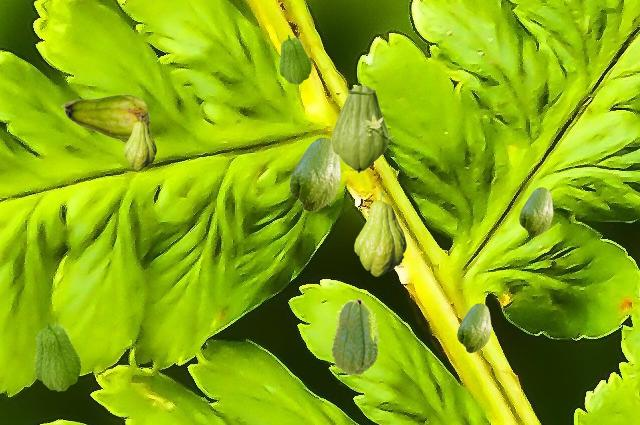sayote: (331, 85, 393, 172), (354, 192, 405, 275), (61, 94, 148, 140), (288, 137, 340, 211), (330, 298, 379, 376), (33, 320, 81, 390), (123, 116, 155, 169), (518, 187, 552, 236), (456, 303, 490, 352), (278, 34, 311, 83)
